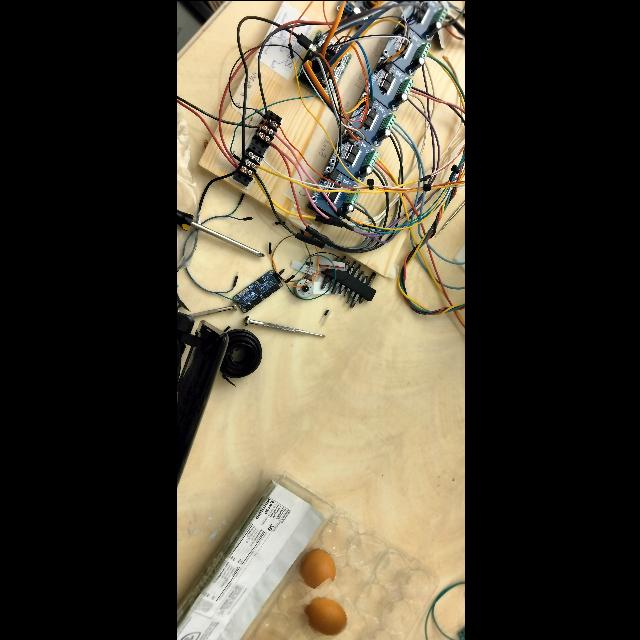Egg: (288, 583, 355, 640), (292, 534, 344, 598)
